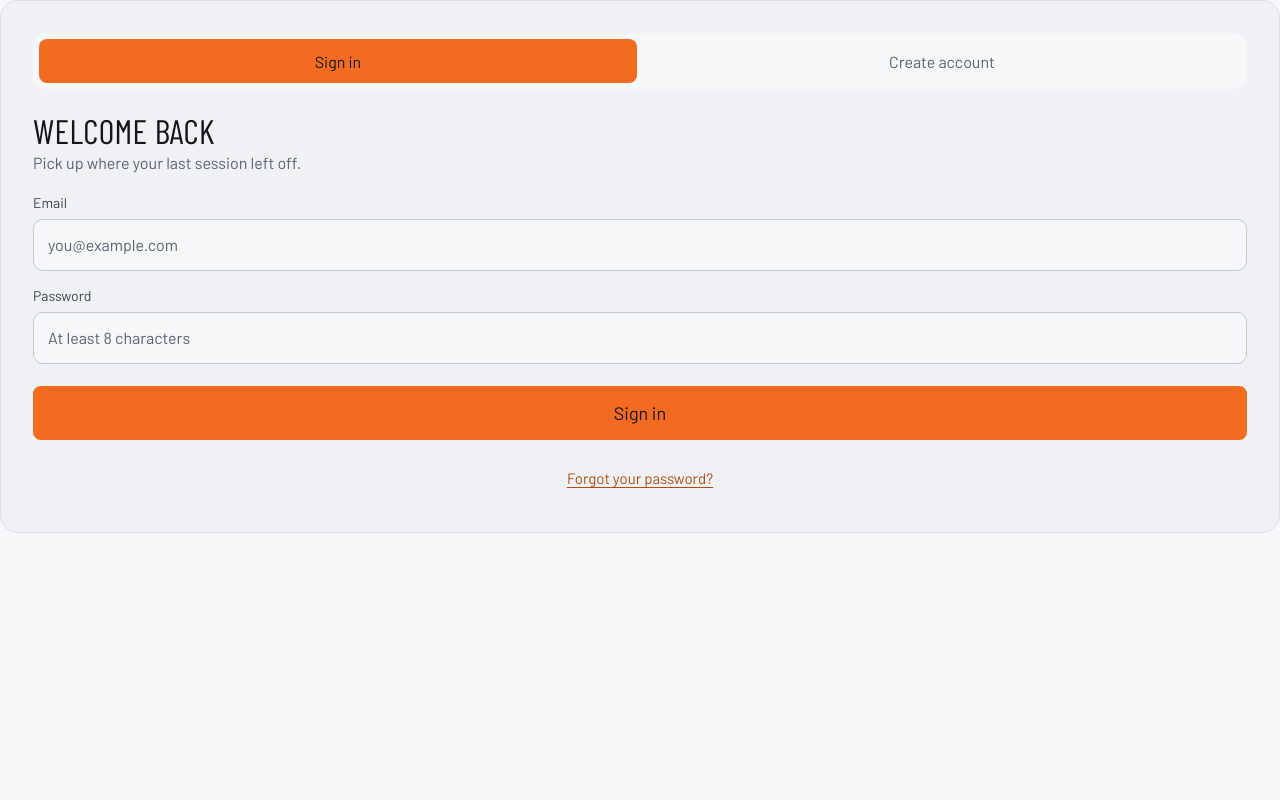
it: AuthForm › shows a failed sign-in as an alert
This screenshot has width=1280, height=800.
In the field labelled "Email": {"x": 640, "y": 245} [33,219,1247,271], type "me@example.com"
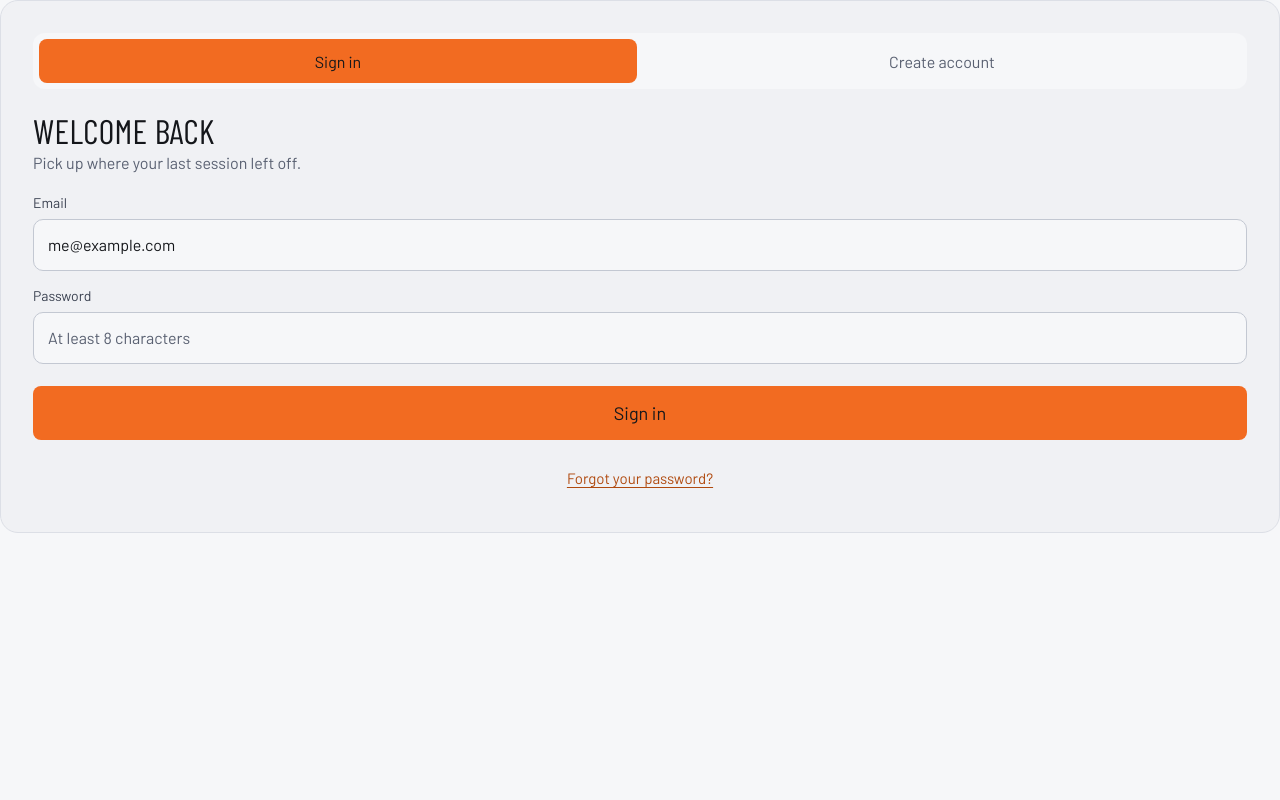
In the password field labelled "Password": {"x": 640, "y": 338} [33,312,1247,364], type "wrongpass1"
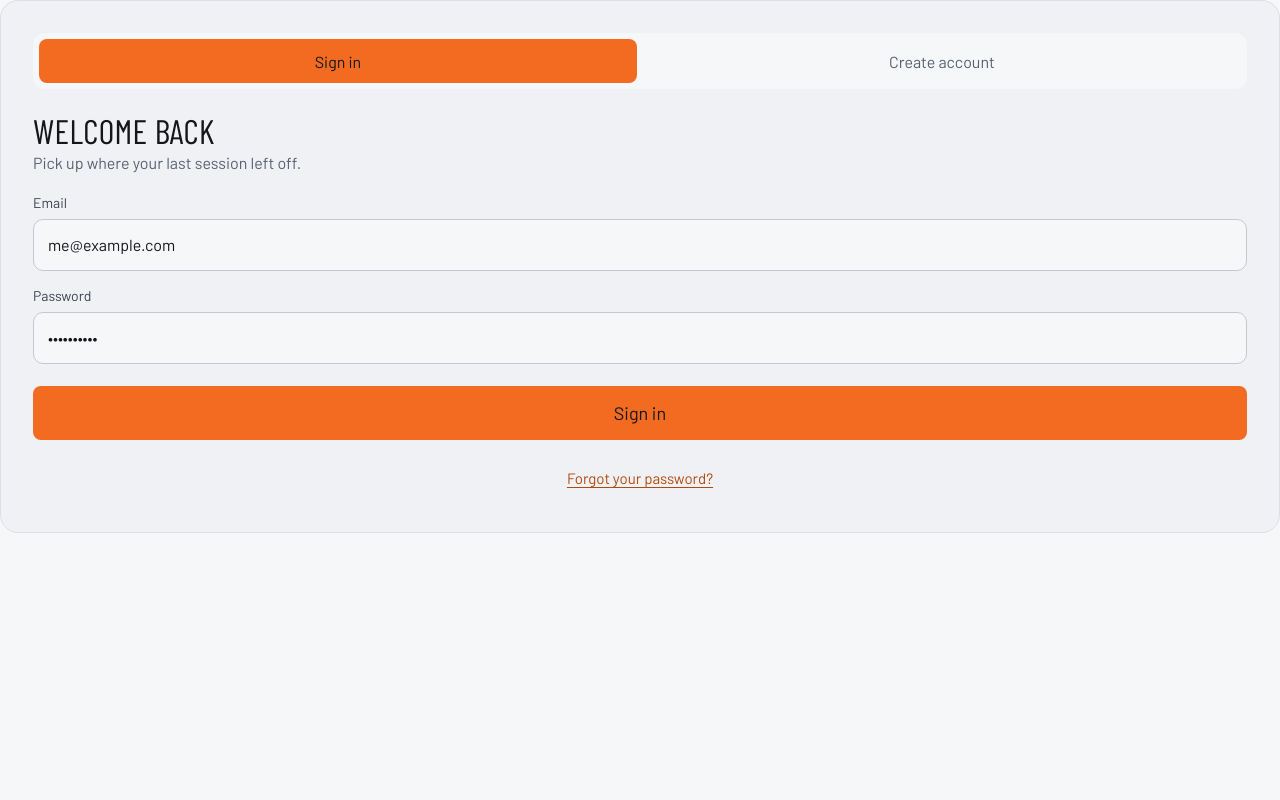
Submit the form labelled "Email", box [33,194,1247,440]
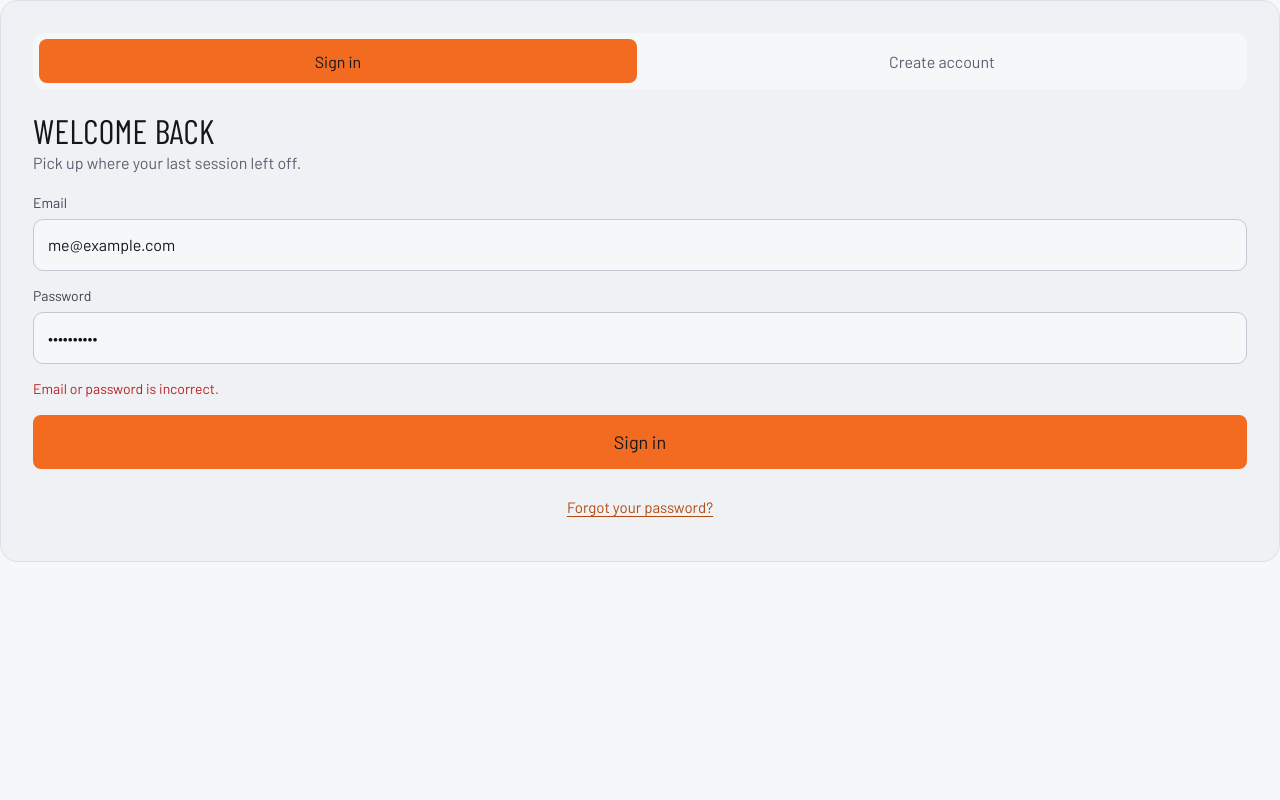
Result: the message reads "Email or password is incorrect." at [33,380,219,397]
